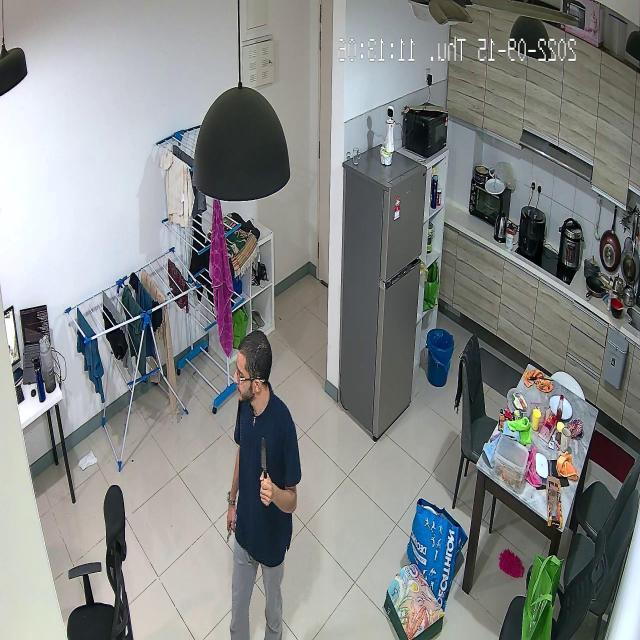Knife: (251, 432, 289, 500)
